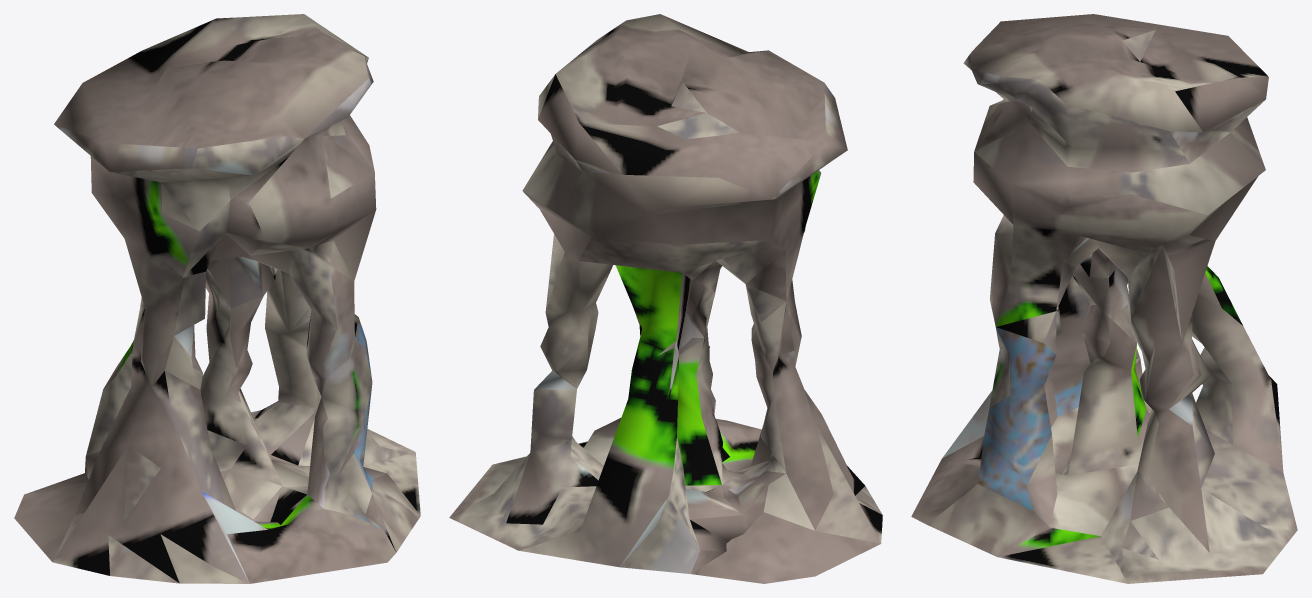
The model's file is Structure-1.fbx.
3 views of the same model, side by side, from view 1: azimuth 30°, elevation 25°; view 2: azimuth 150°, elevation 25°; view 3: azimuth 270°, elevation 25° (orthographic). The views are drawn at different scales.
Visible parts, largest first — view 1: Structure-1; view 2: Structure-1; view 3: Structure-1.
Part boxes in pixels (box(x1,y1,x2,y2)): Structure-1: box(14, 14, 420, 583); Structure-1: box(449, 14, 882, 583); Structure-1: box(911, 14, 1297, 583).
Size of the model in its own units: 7.3 by 8.36 by 6.29.
